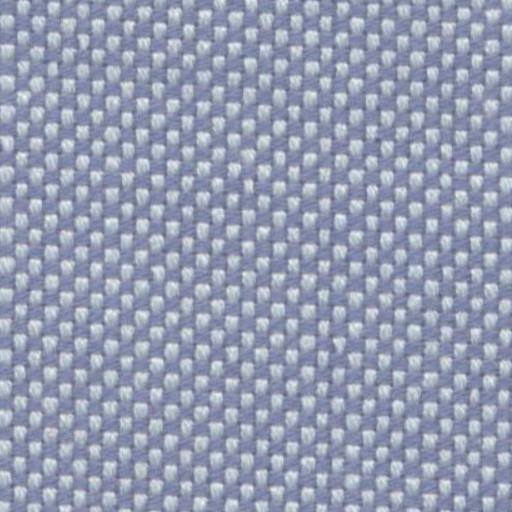TuoSha: (314, 19, 362, 503)
